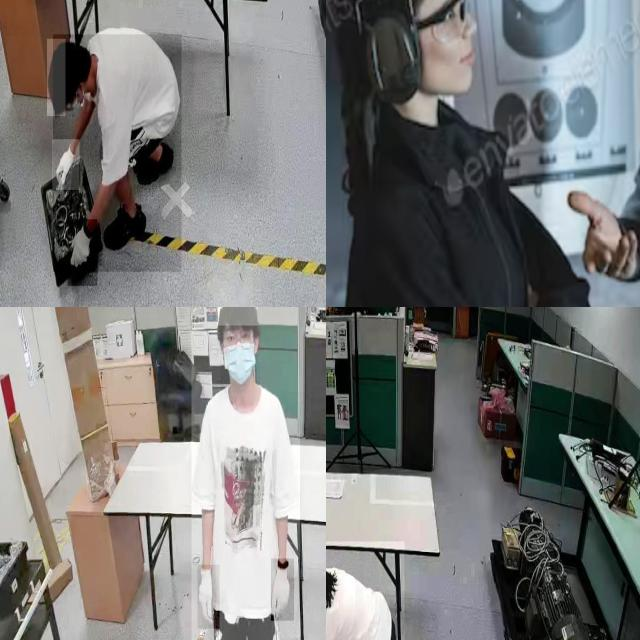Ear-protection: (350, 0, 480, 134)
face_mask: (220, 337, 260, 393)
glasses: (407, 0, 481, 44), (222, 331, 255, 354)
hand_glove: (68, 219, 98, 287), (271, 558, 295, 622), (52, 139, 80, 191), (198, 564, 220, 630)
head_nohelmet: (47, 39, 66, 117), (217, 307, 258, 326)
person: (334, 0, 563, 307), (191, 307, 300, 640), (53, 34, 182, 272), (326, 541, 404, 640)
shoes: (101, 202, 148, 252), (133, 140, 179, 186)
